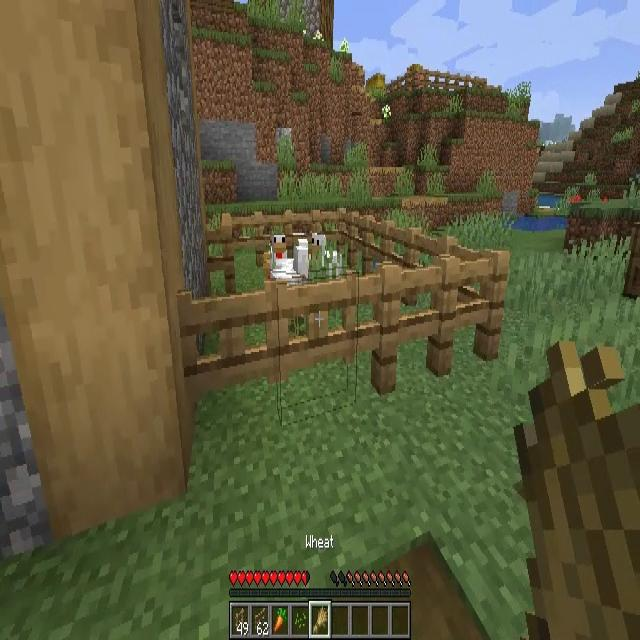duck: (307, 232, 343, 282), (270, 236, 308, 280)
